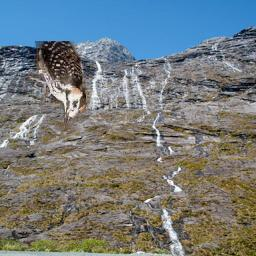Woodpecker: (26, 42, 87, 133)
